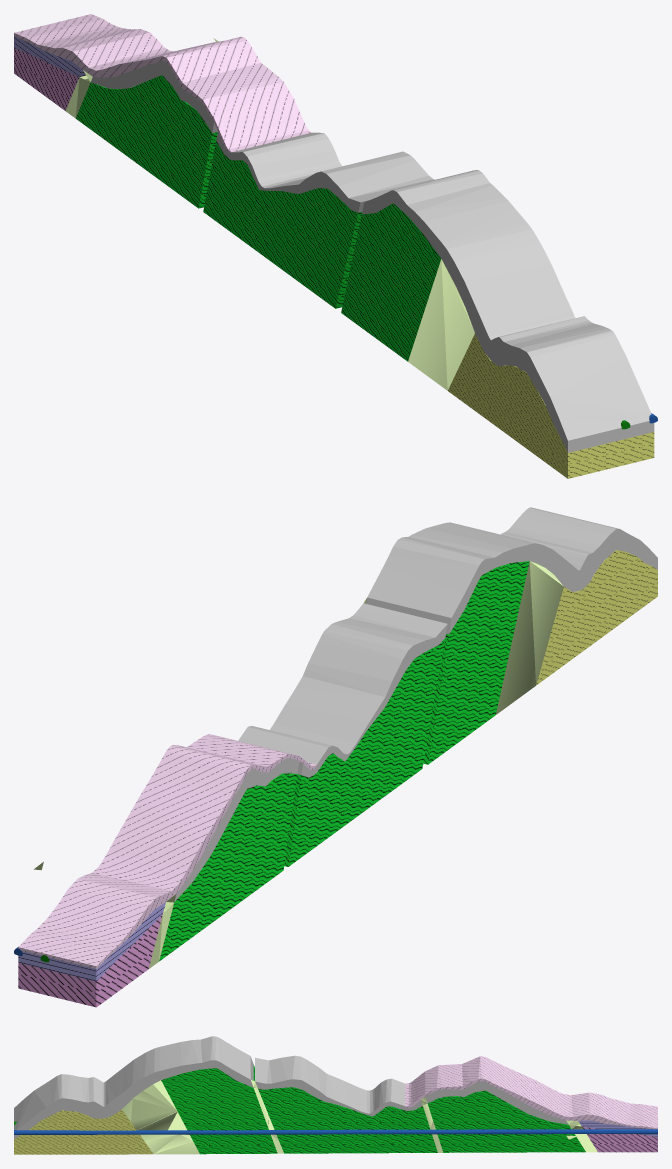
The model's file is xb_Sec.obj.
The picture shows the model from 3 angles, top to bottom: view 1: azimuth 30°, elevation 25°; view 2: azimuth 150°, elevation 25°; view 3: azimuth 270°, elevation 25°; orthographic projection. The views are drawn at different scales.
Visible parts, largest first — view 1: 1, 3, 6, 4, 0, fractures, 2, 5; view 2: 1, 6, 4, 3, 0, fractures, 2, 5; view 3: 1, 3, 6, 4, 0, fractures, tunnel_right, 2, 5.
Part boxes in pixels (bbox=[...]): 1: bbox=[76, 75, 441, 361]; 3: bbox=[362, 170, 654, 452]; 6: bbox=[14, 14, 311, 152]; 4: bbox=[91, 60, 434, 212]; 0: bbox=[448, 333, 654, 478]; fractures: bbox=[65, 38, 474, 390]; 2: bbox=[14, 48, 79, 110]; 5: bbox=[14, 36, 85, 76]; 1: bbox=[159, 561, 529, 961]; 6: bbox=[18, 734, 316, 968]; 4: bbox=[174, 603, 447, 901]; 3: bbox=[366, 507, 657, 634]; 0: bbox=[536, 550, 657, 685]; fractures: bbox=[34, 561, 563, 968]; 2: bbox=[18, 914, 162, 1007]; 5: bbox=[18, 902, 165, 981]; 1: bbox=[161, 1065, 585, 1154]; 3: bbox=[14, 1036, 253, 1139]; 6: bbox=[405, 1056, 657, 1129]; 4: bbox=[255, 1055, 568, 1124]; 0: bbox=[14, 1109, 153, 1154]; fractures: bbox=[122, 1080, 597, 1154]; tunnel_right: bbox=[14, 1129, 657, 1134]; 2: bbox=[582, 1126, 657, 1152]; 5: bbox=[578, 1120, 657, 1137].
Bounding box in the file's own units: 180 × 213 × 1321.
